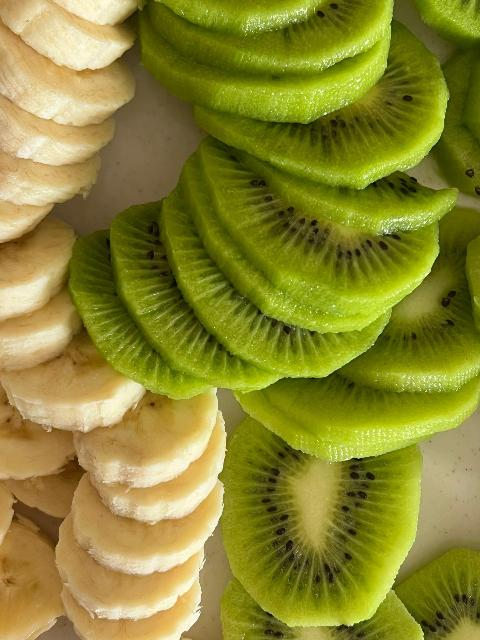Organik: (158, 0, 480, 397), (0, 0, 112, 414), (95, 402, 217, 617), (231, 442, 392, 602), (402, 556, 480, 640)
